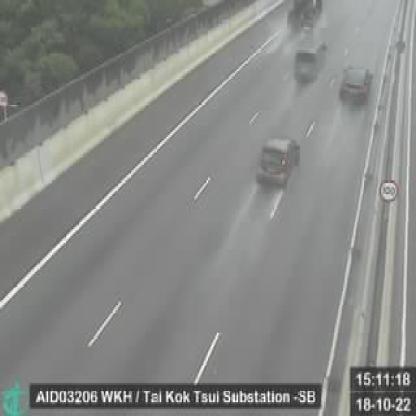Car: (255, 133, 301, 189), (338, 63, 374, 112), (293, 37, 326, 86)
Truck: (283, 0, 323, 34)
